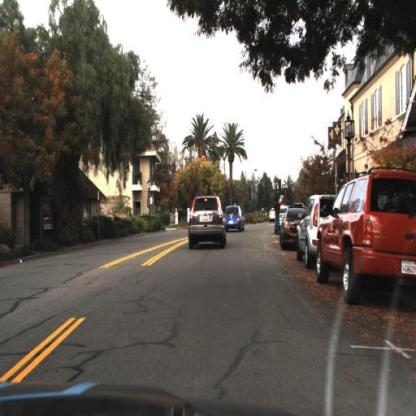car: (316, 165, 416, 303), (297, 191, 339, 274), (188, 198, 228, 249), (281, 205, 308, 250), (224, 205, 245, 231)
pedestrian: (273, 197, 284, 237)
